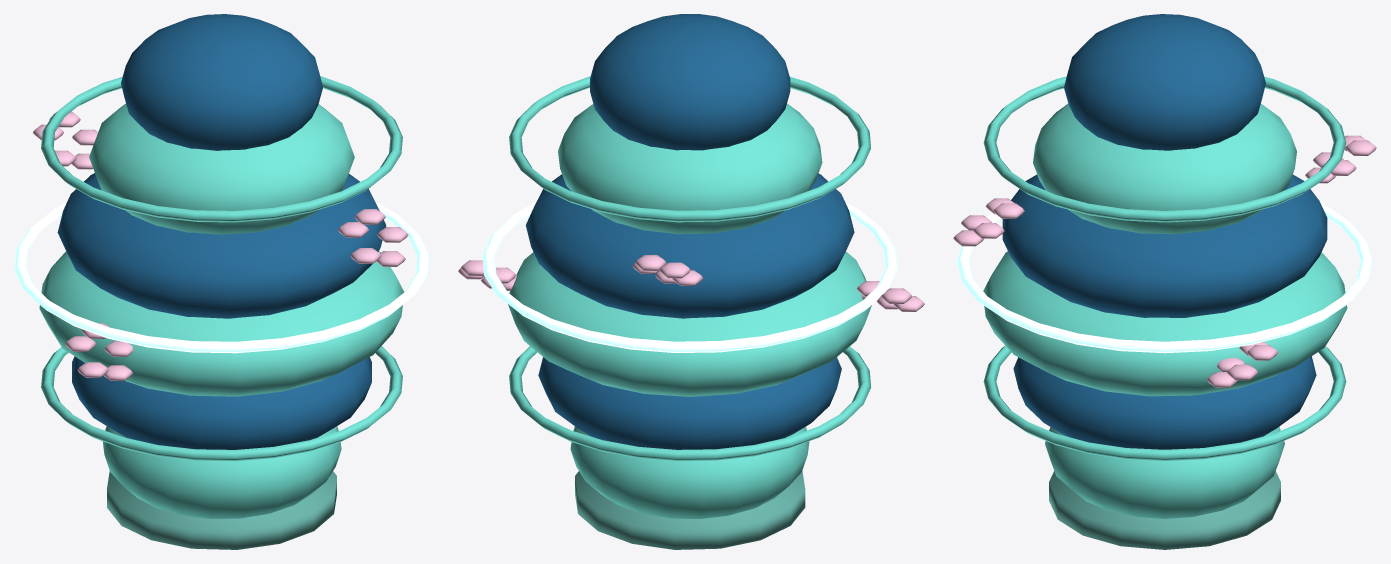
The model's file is egg_deepsea_07.glb.
3 renders of one model, left to right at view 1: azimuth 30°, elevation 25°; view 2: azimuth 150°, elevation 25°; view 3: azimuth 270°, elevation 25°, orthographic.
Visible parts, largest first — view 1: ball; view 2: ball; view 3: ball.
Part boxes in pixels (x1,y1,x2,y2): ball: [14, 14, 429, 549]; ball: [458, 14, 924, 549]; ball: [953, 14, 1376, 549].
Bounding box in the file's own units: 0.8208 × 0.99 × 0.8038.
